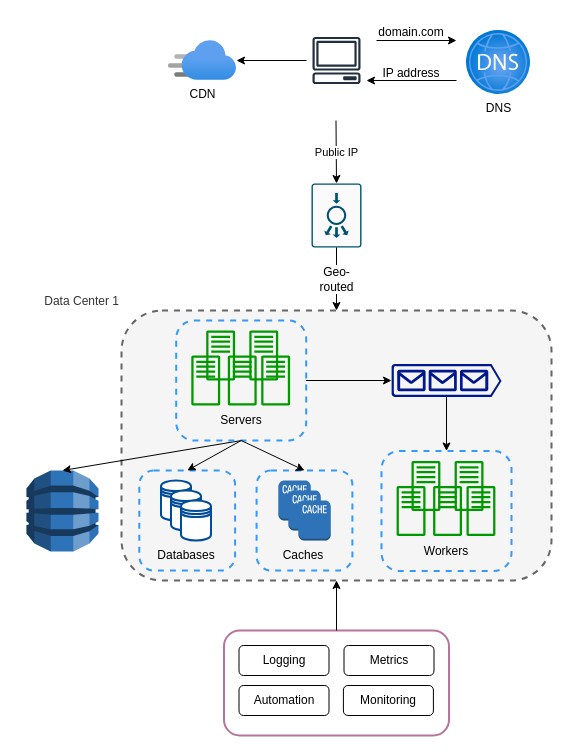
The diagram is 570 pixels wide and 753 high, and some of its shapes have lost their labels. The shapes that lost their labels are listed below. From the top down, each one's centre as x and y in pixels, then its label:
At [336,60]: "Client".
At [336,215]: "Load Balancer".
At [446,380]: "Messasge queue".
At [62,511]: "NoSQL (Shared storage)".
